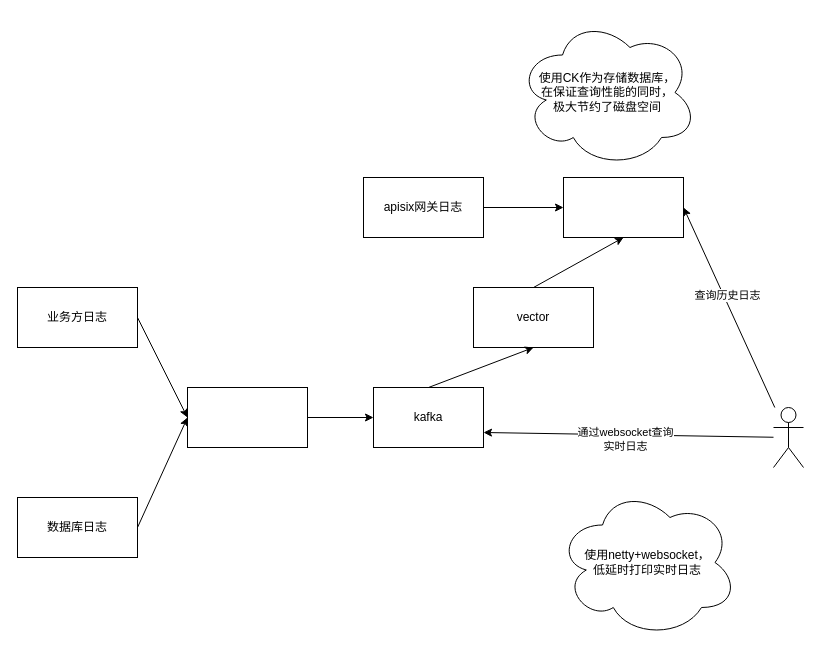
Image size: 821x655. Some labels were removed from this diagram. Each missing label, with the centre of its shape:
"CK" goes at point 623,207.
"filebeat" goes at point 247,417.
"user" goes at point 788,437.
